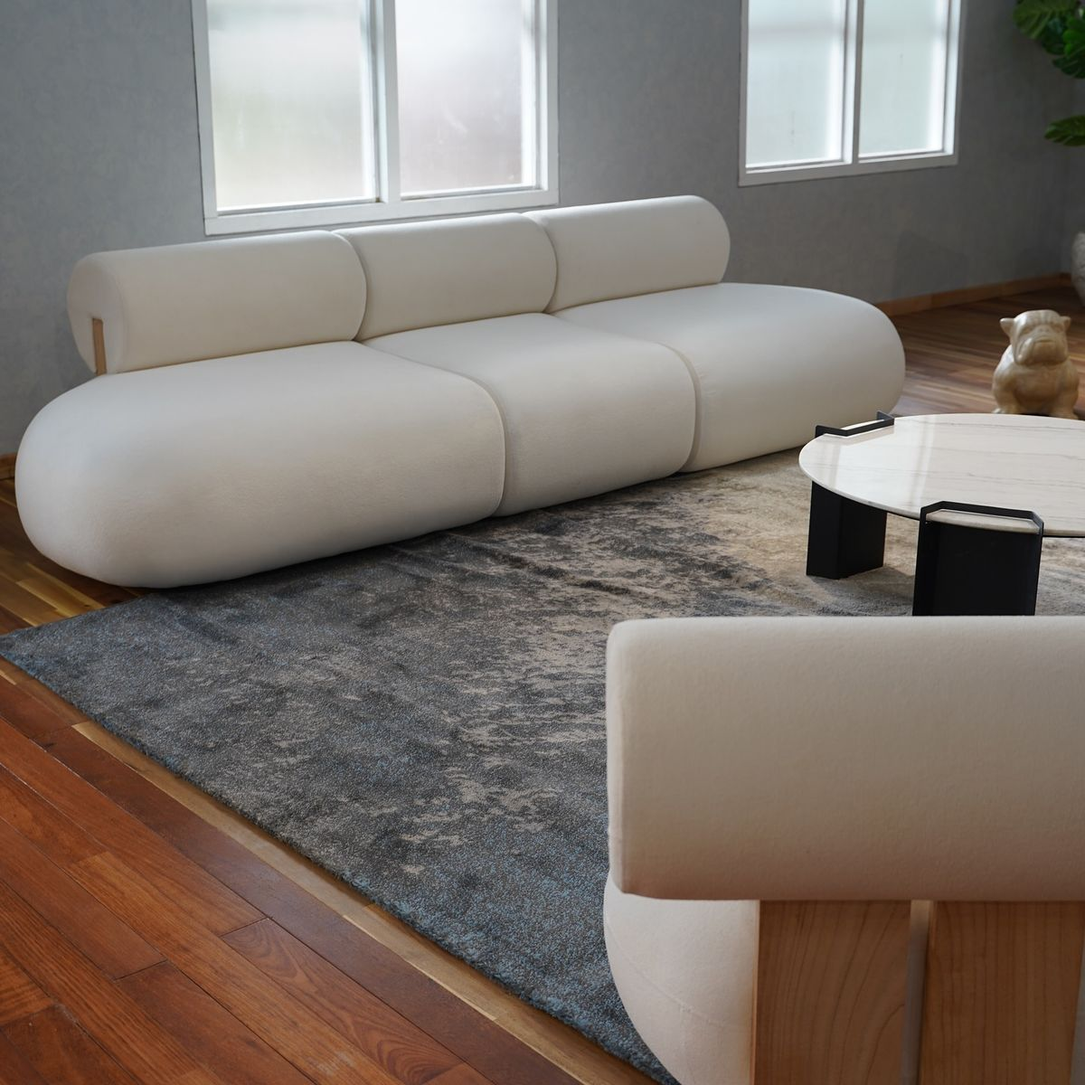3seatersofa: (16, 196, 902, 586)
backrest: (69, 197, 728, 373)
seat: (17, 284, 902, 586)
